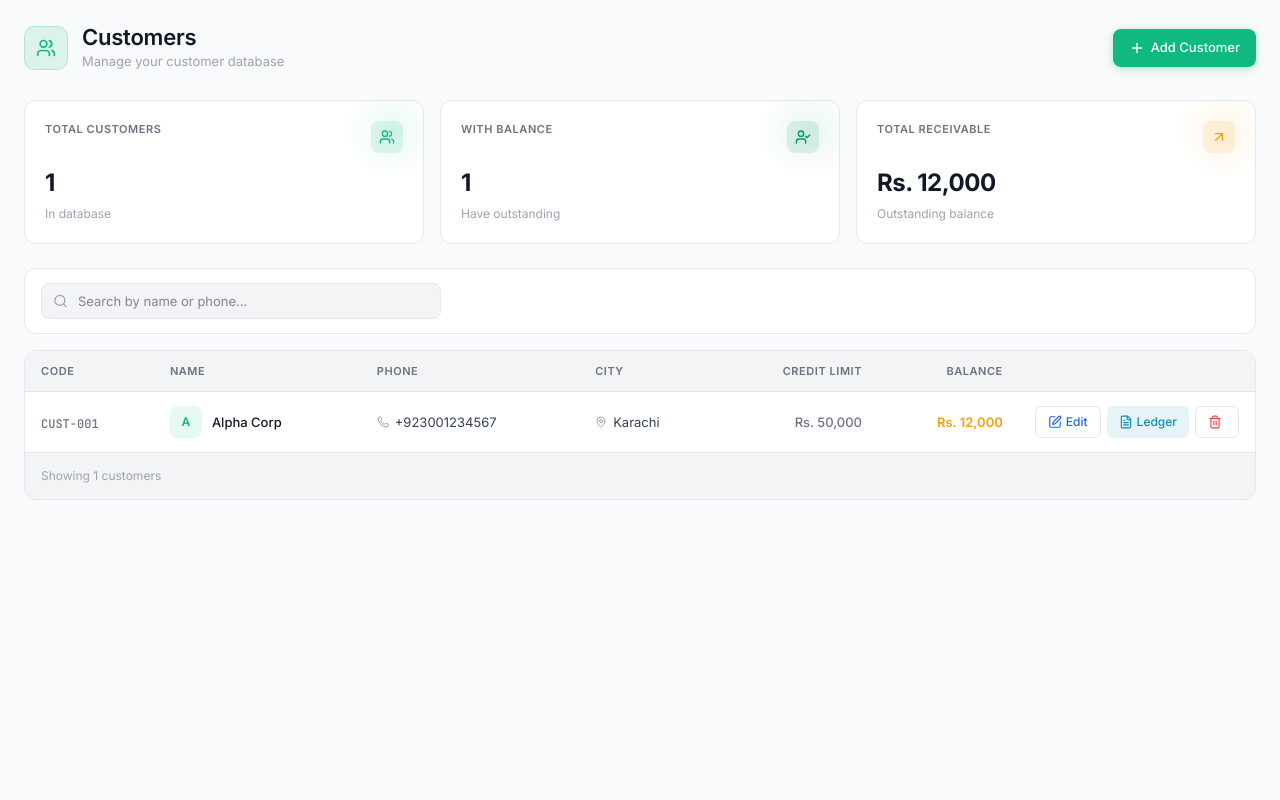
Test: Customers page › cancels delete dialog
expect the text "Alpha Corp" is shown: met, box [212, 413, 282, 432]
Click the button named "Delete Alpha Corp": (1217, 422) [1195, 406, 1239, 438]
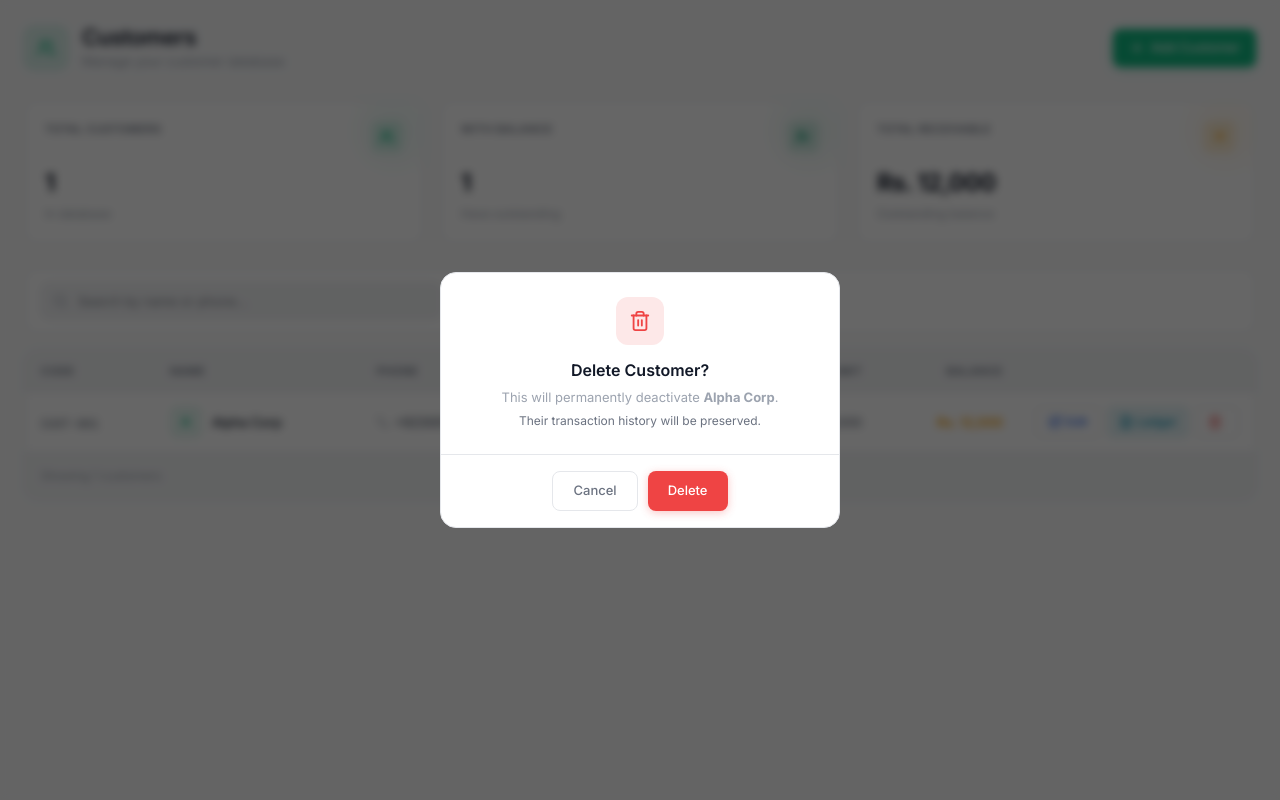
Click the button "Cancel": (595, 491) [552, 471, 638, 511]
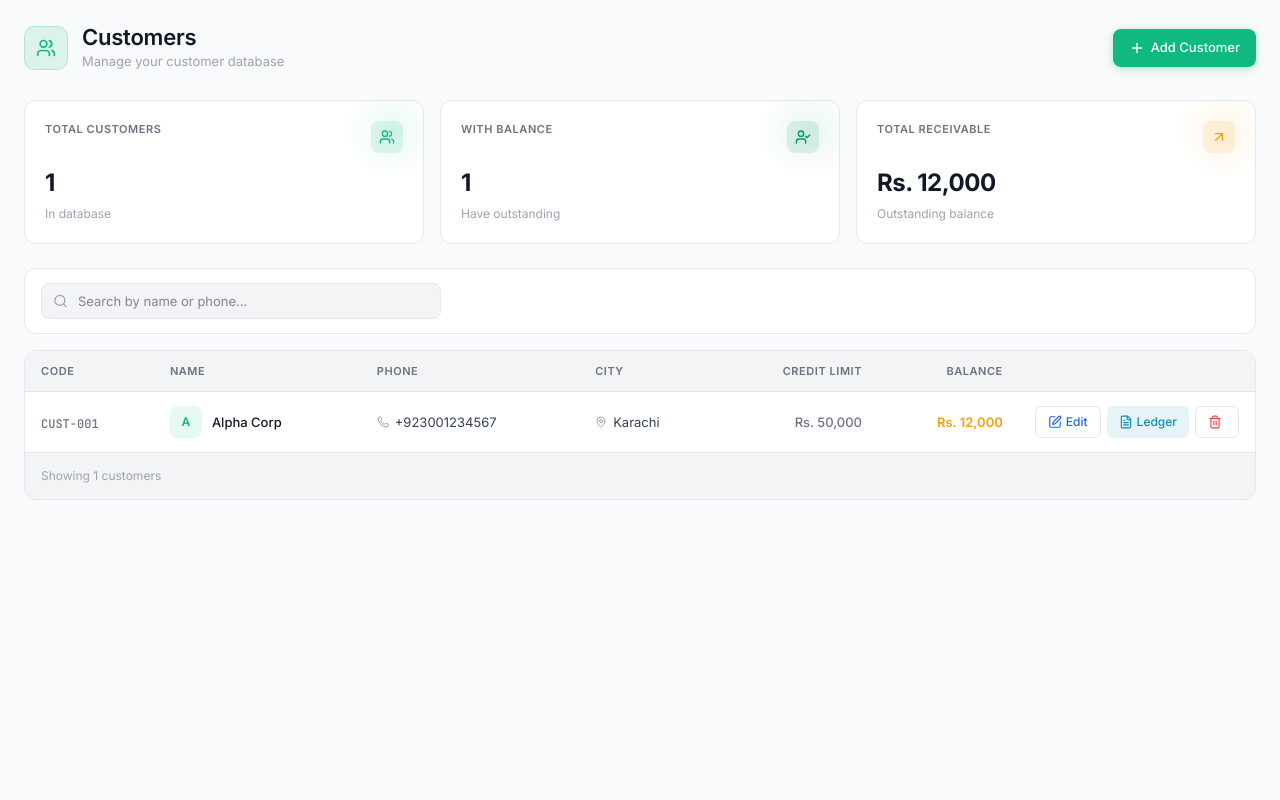
expect the heading "Delete Customer?" is gone: met
